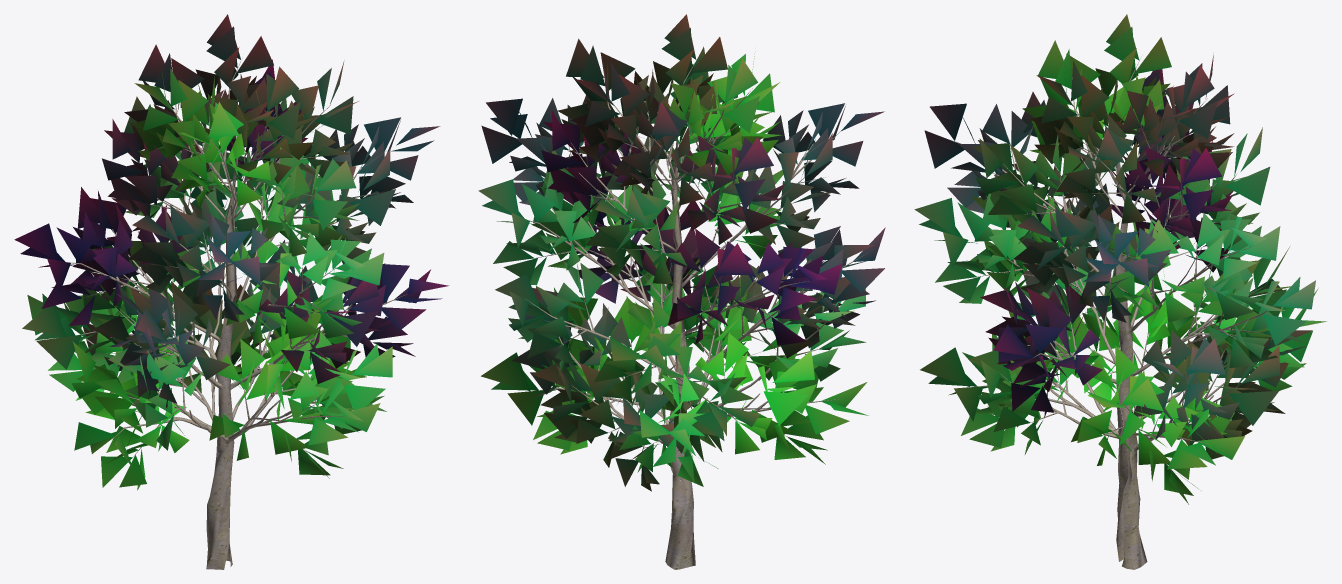
Rendered from apple treeeee.fbx.
3 renders of one model, left to right at view 1: azimuth 30°, elevation 25°; view 2: azimuth 150°, elevation 25°; view 3: azimuth 270°, elevation 25°, orthographic.
Parts seen in each view (by area): view 1: apple_tree; view 2: apple_tree; view 3: apple_tree.
Part boxes in pixels (x1,y1,x2,y2): apple_tree: (14,14,449,569); apple_tree: (478,14,885,569); apple_tree: (914,14,1326,569).
Bounding box in the file's own units: 289 × 372 × 268.
